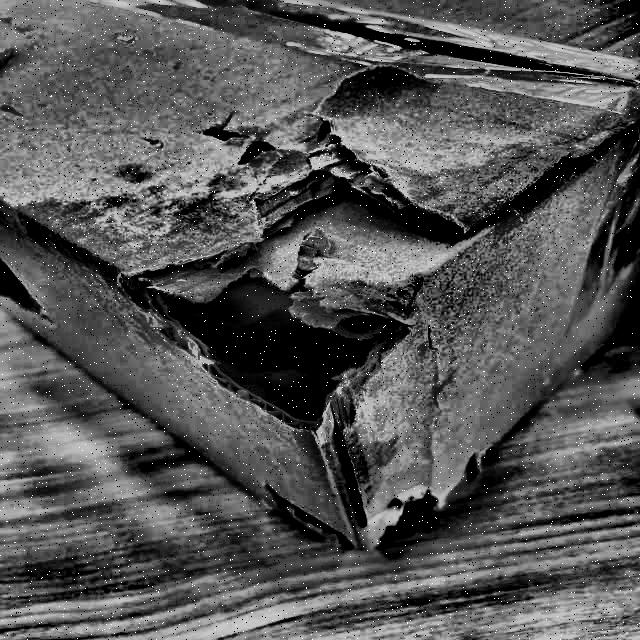box: (1, 0, 640, 583)
hole: (119, 244, 427, 436)
